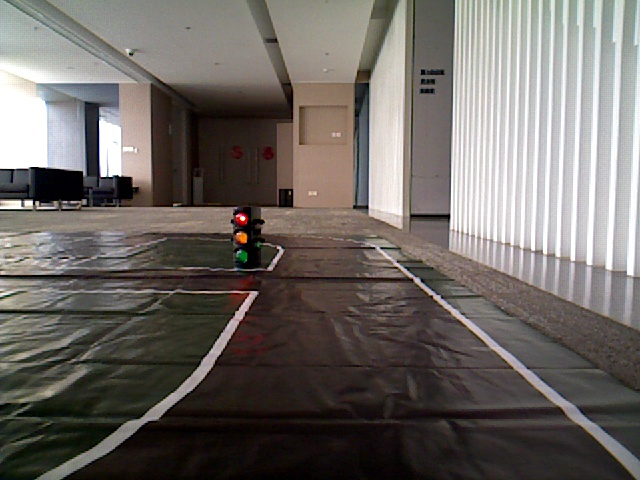red: (232, 211, 252, 262)
